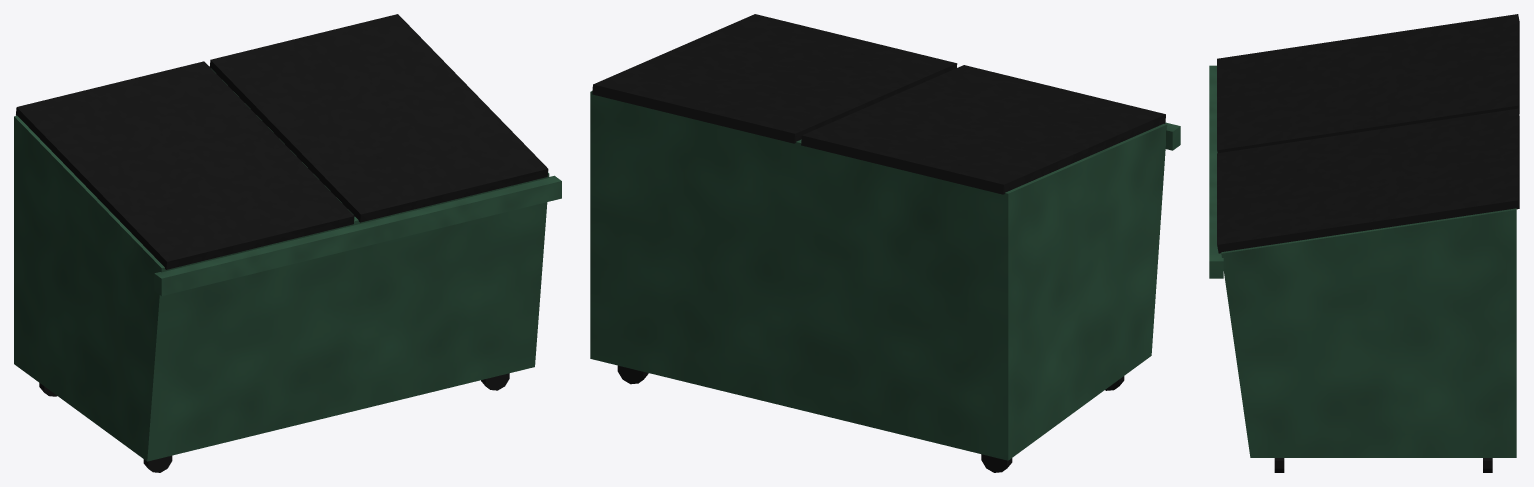
The model's file is BayDumpster.fbx.
3 renders of one model, left to right at view 1: azimuth 30°, elevation 25°; view 2: azimuth 150°, elevation 25°; view 3: azimuth 270°, elevation 25°, orthographic. The views are drawn at different scales.
Parts seen in each view (by area): view 1: BayDumpster_Body; view 2: BayDumpster_Body; view 3: BayDumpster_Body.
Part boxes in pixels (x1,y1,x2,y2): BayDumpster_Body: [14, 14, 561, 472]; BayDumpster_Body: [590, 14, 1180, 472]; BayDumpster_Body: [1209, 14, 1519, 472].
Size of the model in its own units: 1.91 by 1.29 by 1.28.
Materials: 2 (2 with a texture image).
